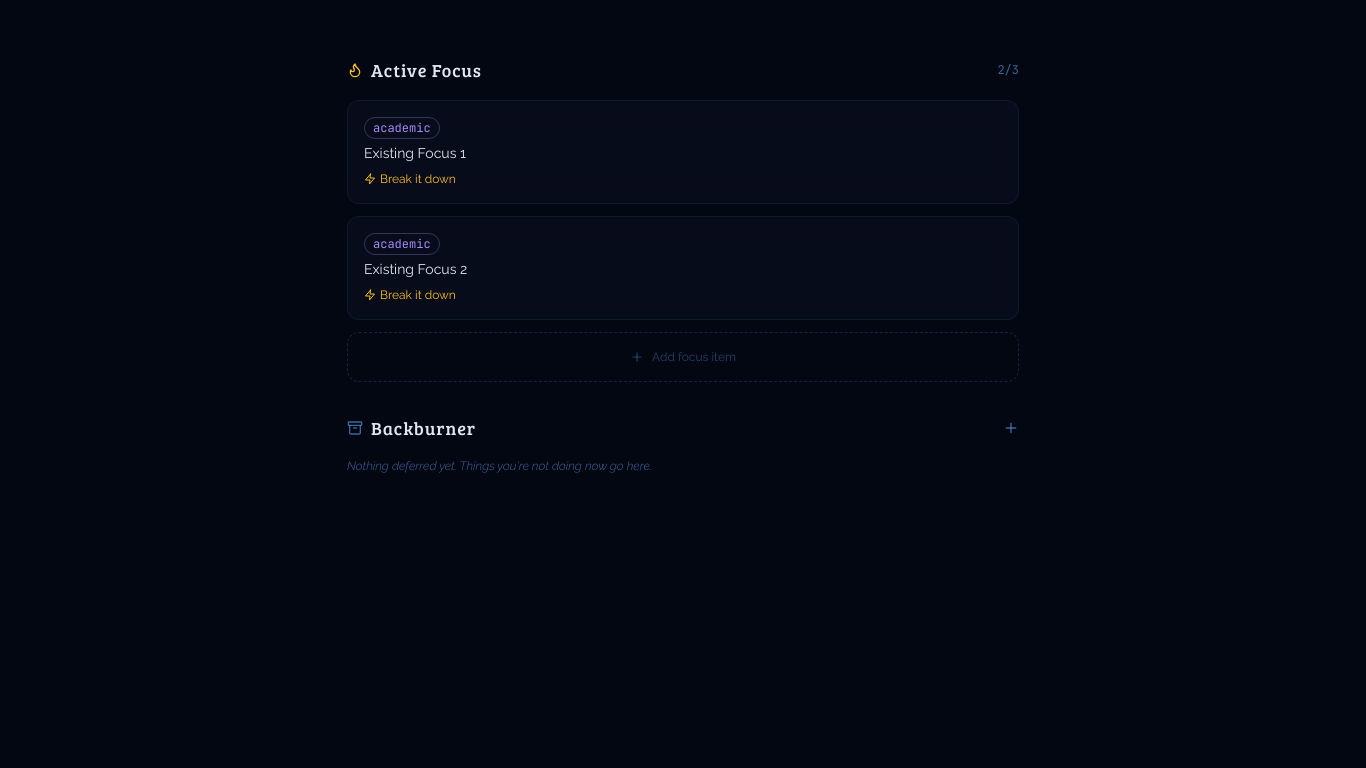
Scenario: FocusBoard › adds a new focus item and resets the form modal
expect the text "Existing Focus 1" is shown: met, box [364,145,466,161]
Click "Add focus item" button
Step 1. Click the button "Add focus item" → (683, 357), box [630,349,736,365]
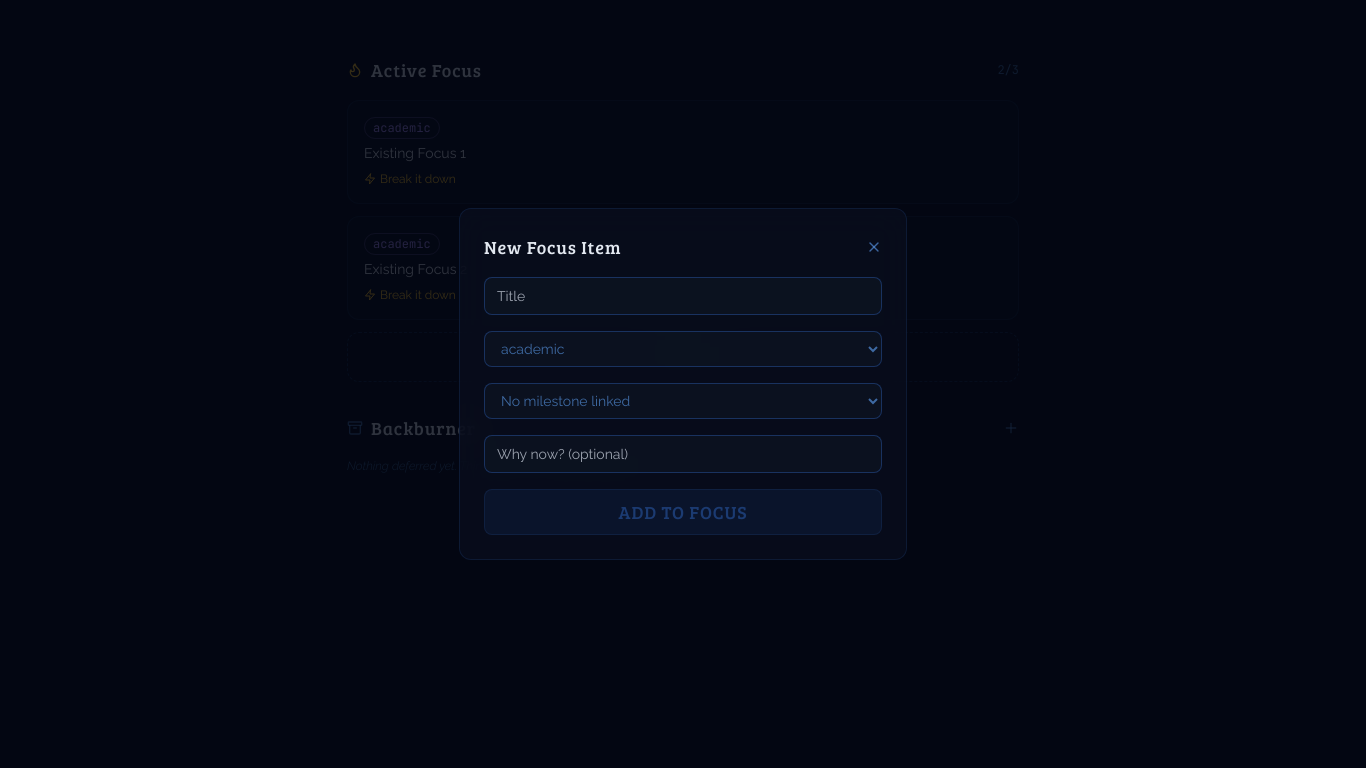
expect the heading "New Focus Item" is shown: met, box [484,233,621,261]
Step 2. Type "Third Focus Project" into the field with placeholder "Title" → (683, 296), box [484,277,882,315]
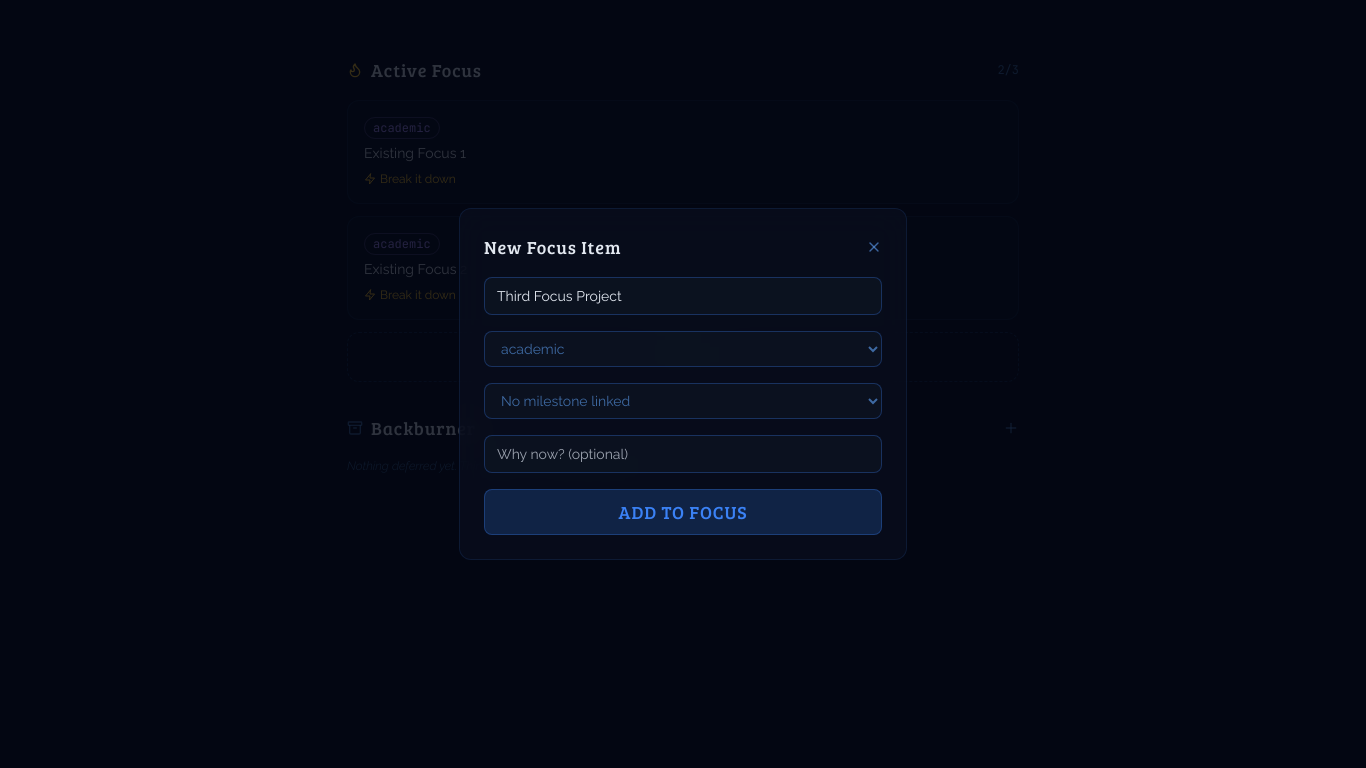
Step 3. Type "High impact project" into the field with placeholder "Why now? (optional)" → (683, 454), box [484,435,882,473]
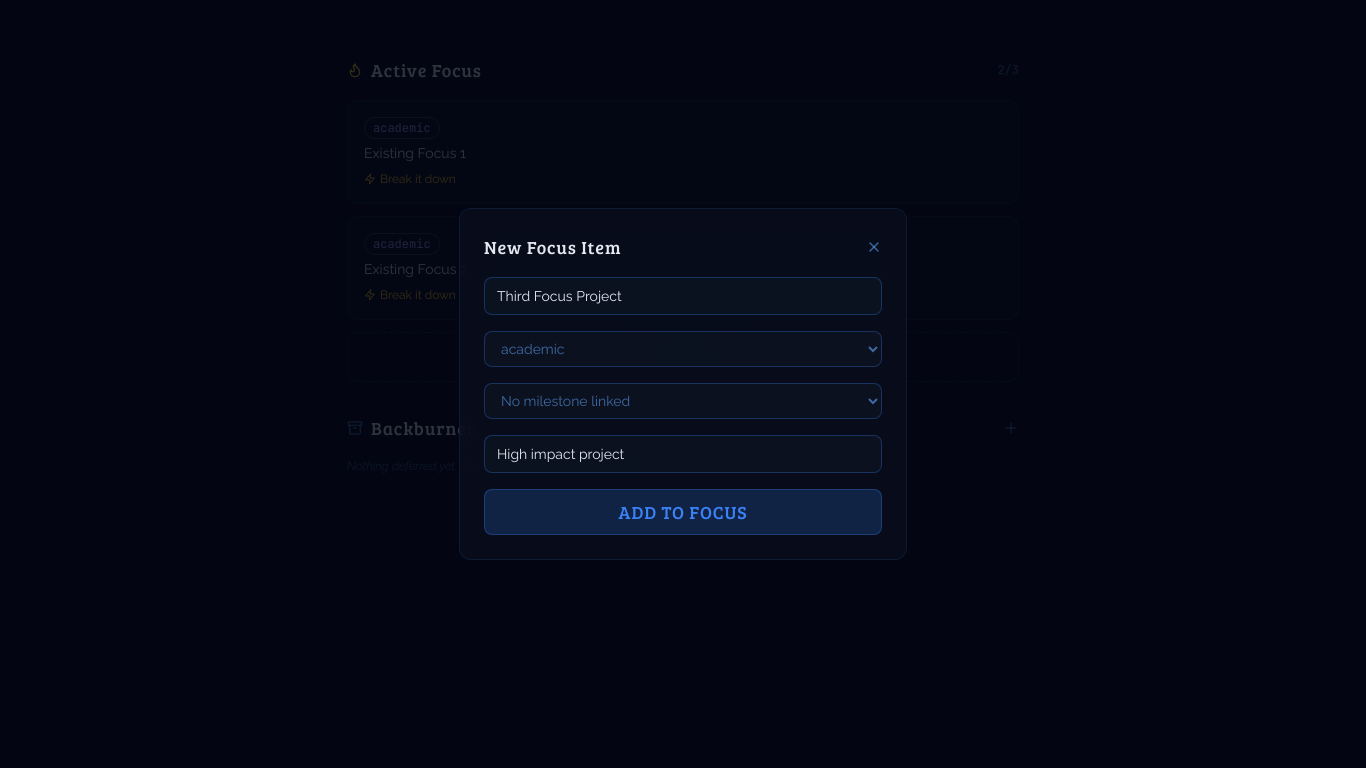
Step 4. Click the button "ADD TO FOCUS" → (683, 512), box [484,489,882,535]
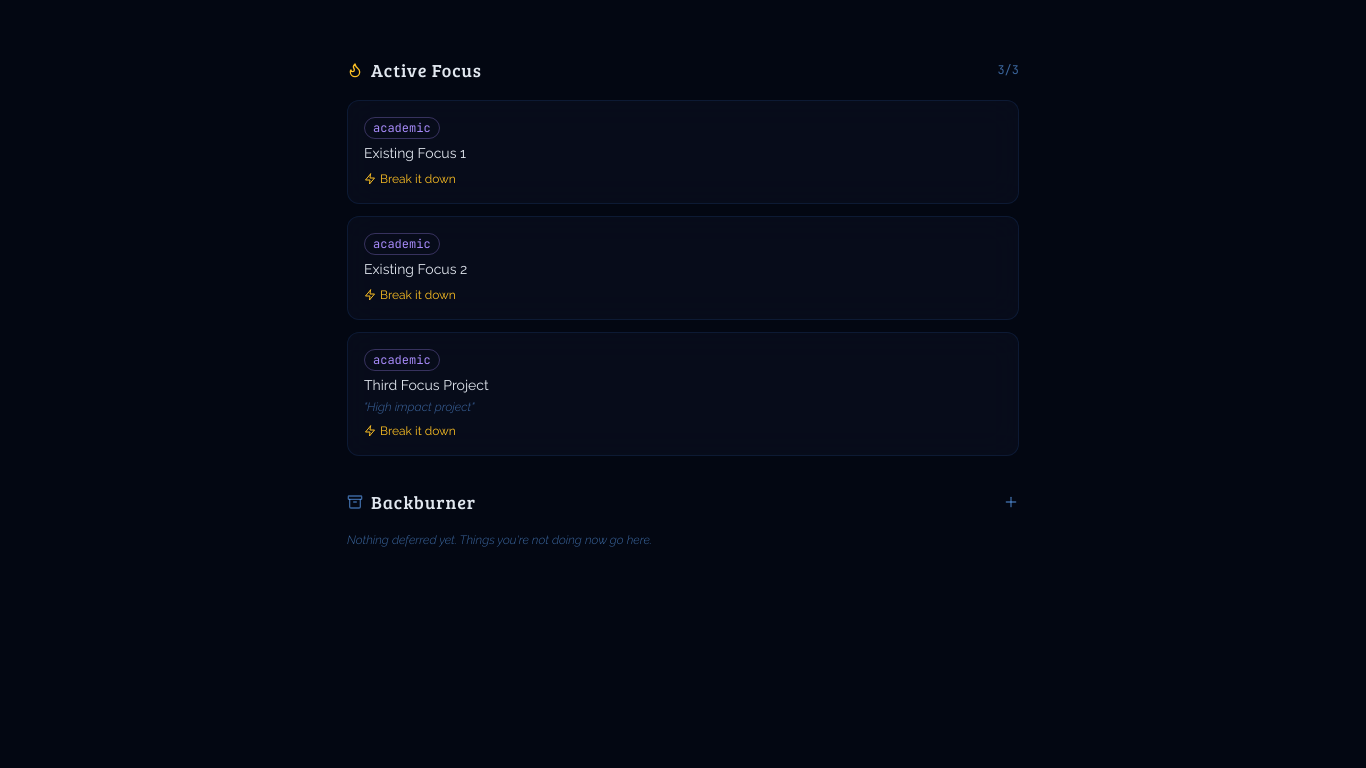
expect the text "Third Focus Project" is shown: met, box [364,377,489,393]
expect the text "3/3" is shown: met, box [997,62,1019,78]
